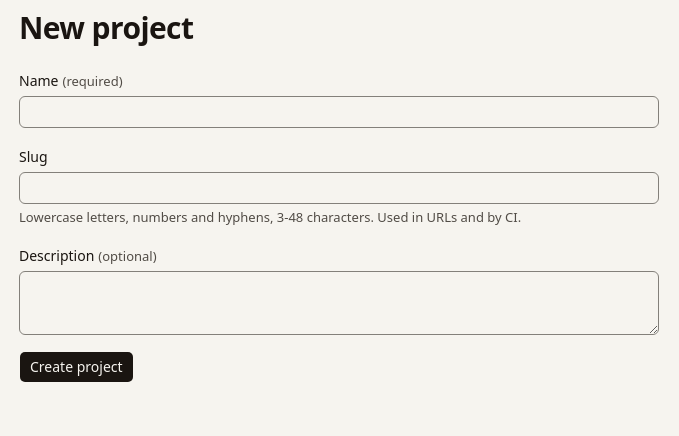
NewProject › shows other server errors at form level
Type "Acme API" into the field labelled "Name" at (339, 112), box [19,96,659,128]
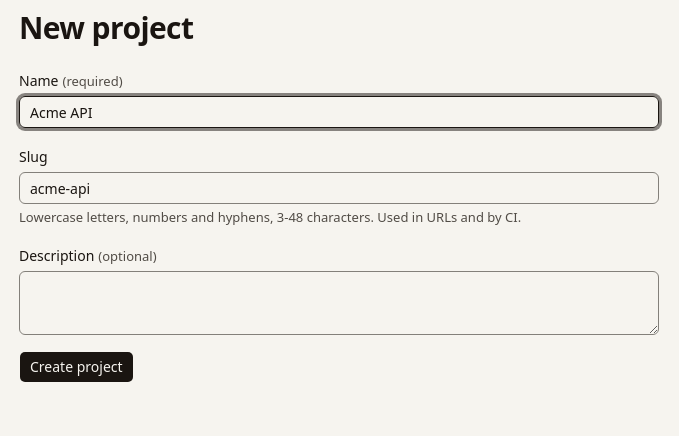
Click the button "Create project" at (76, 367), box [19,351,134,383]
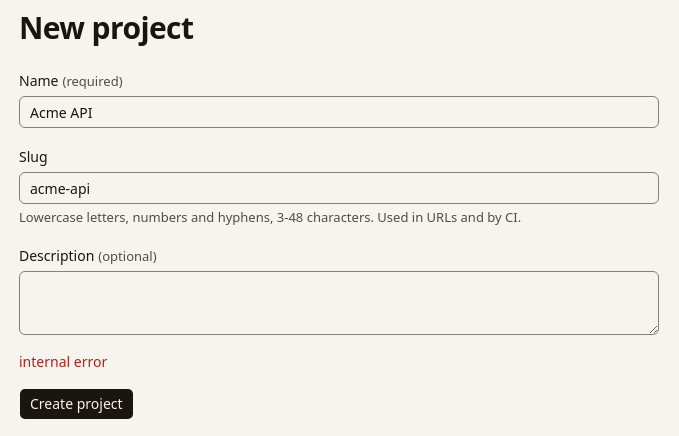
Result: the message reads "internal error" at [19,352,107,371]
